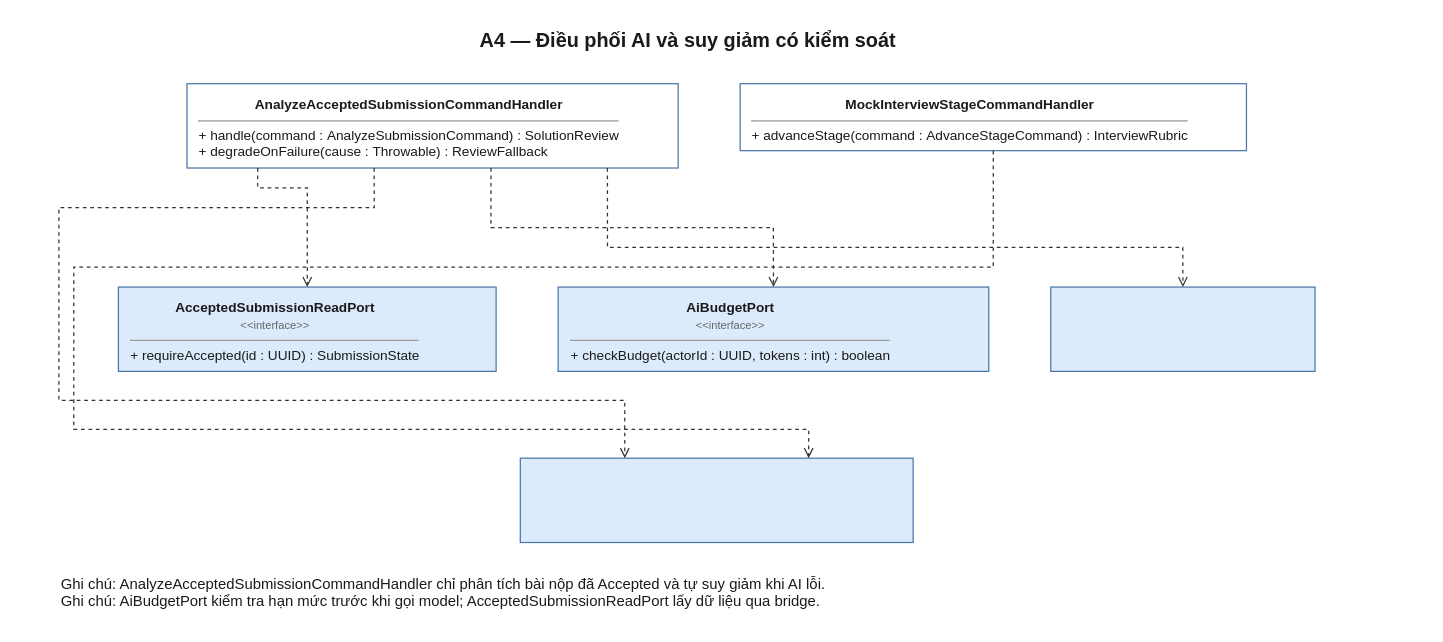
Image size: 1443x642. Some labels were removed from this diagram. Each missing label, with the box of its shape:
AiProviderPort <<interface>> + complete(context : SafeAiContext) : AiResponse: (519, 457, 913, 542)
SolutionReviewRepository <<interface>> + save(review : SolutionReview): (1050, 286, 1315, 371)
